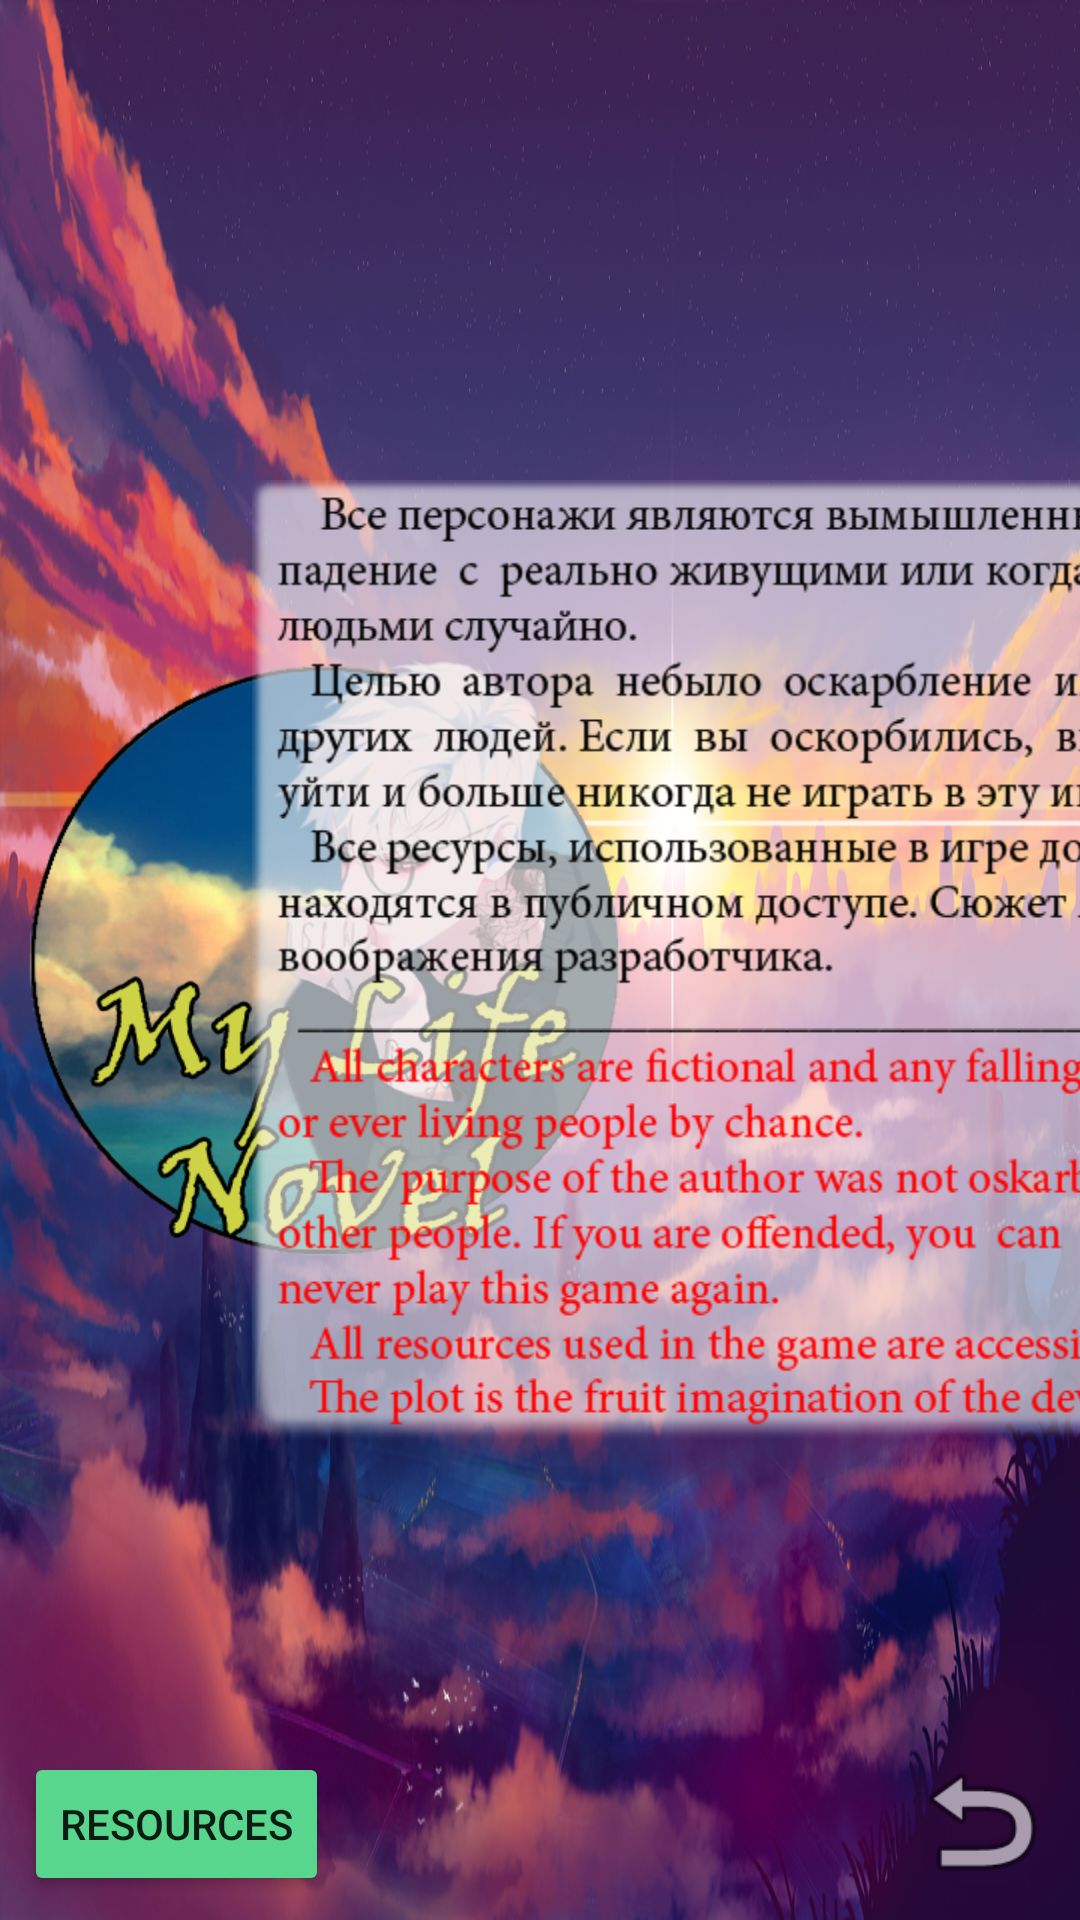

Point at icon controls on the screen. Image size 1080 × 1920, points as [x,y].
revert: [970,1807]
